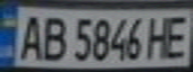4: (109, 15, 133, 62)
5: (69, 14, 93, 62)
6: (124, 14, 148, 61)
8: (90, 15, 112, 62)
A: (12, 11, 48, 61)
B: (36, 14, 69, 62)
E: (160, 11, 193, 60)
H: (145, 12, 175, 61)
